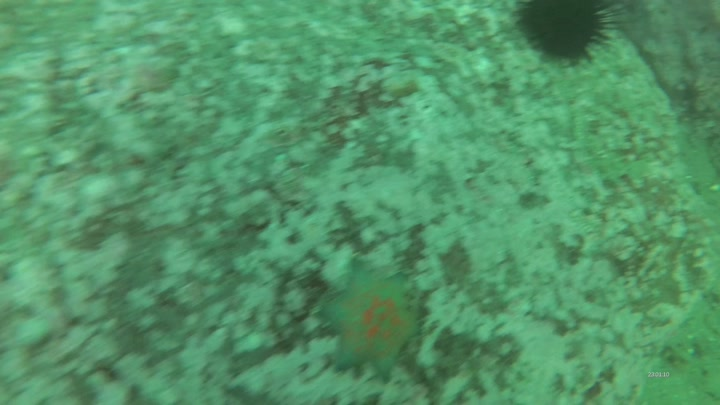echinus: (511, 1, 628, 65)
starfish: (316, 254, 429, 383)
